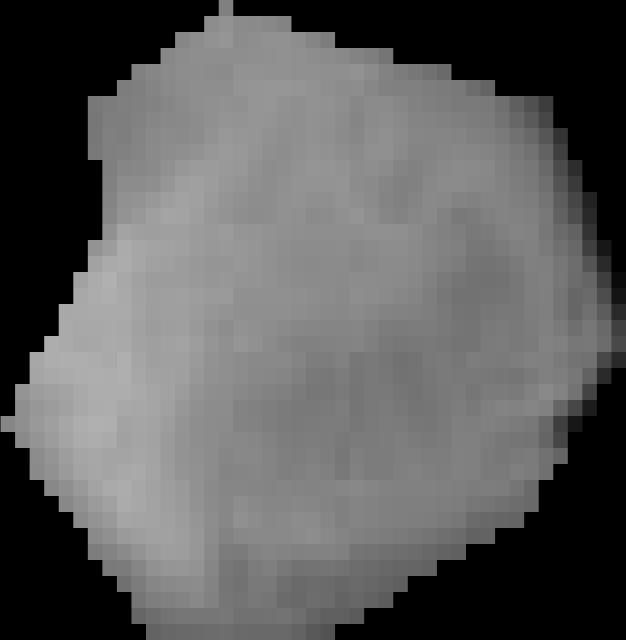tumor_good_chance: (1, 0, 626, 640)
